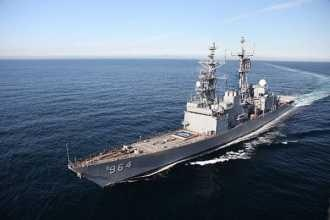warship: (64, 35, 302, 188)
